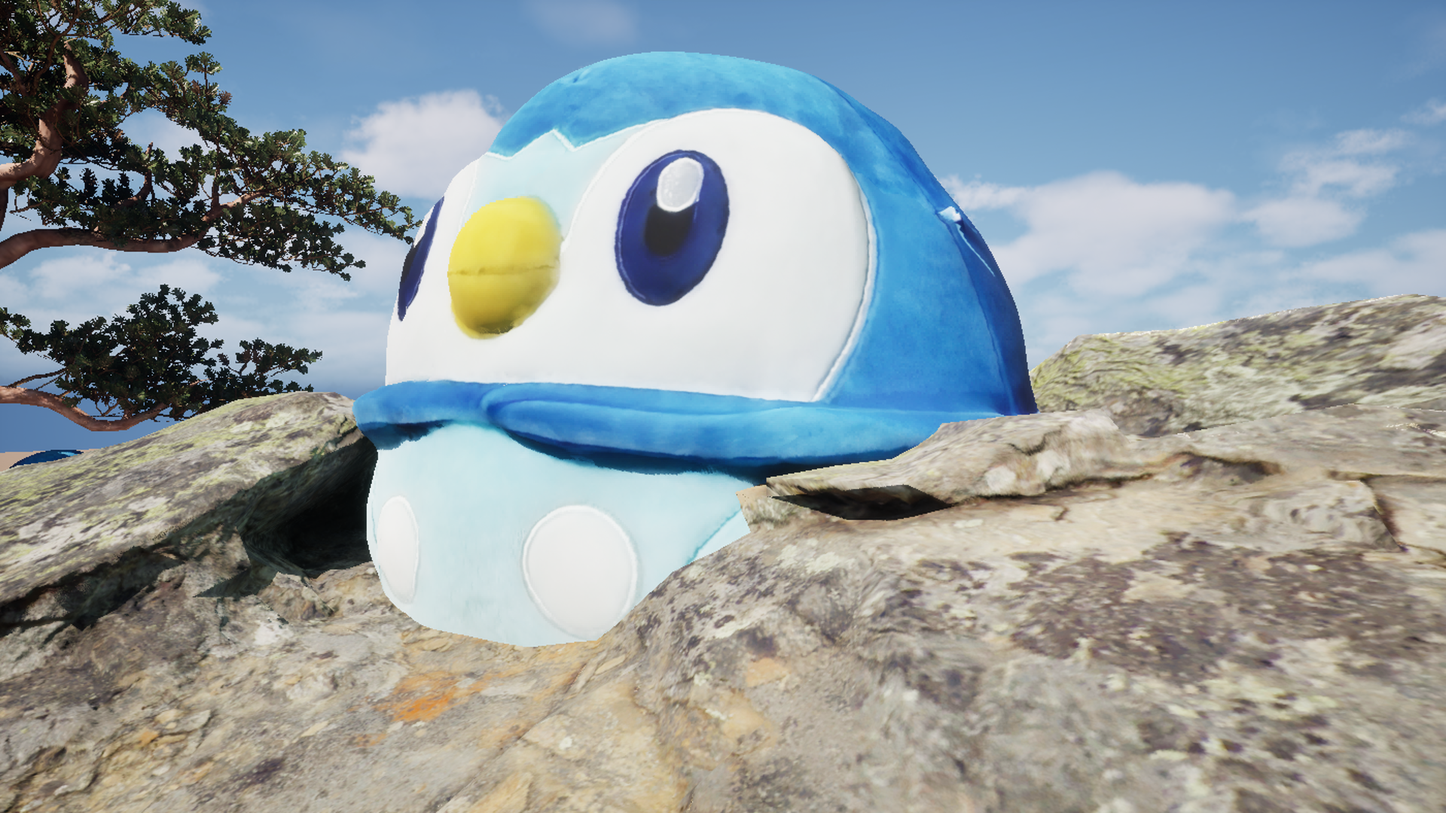Piplup: (257, 0, 1138, 813)
